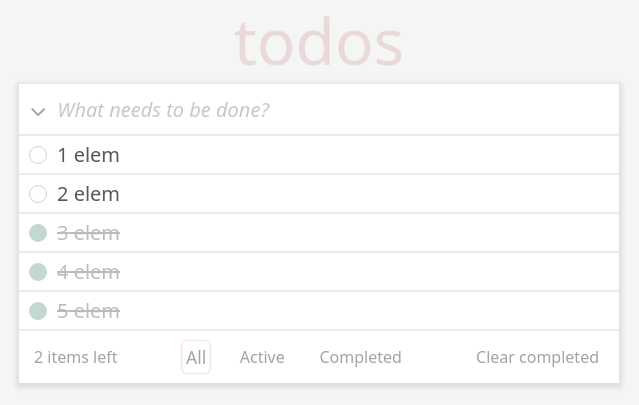
Scenario: Tests › Render only active todos
expect the number of elements with test id "todo-item" is 5: met, box [19,136,619,175]; [19,175,619,214]; [19,214,619,253]; [19,253,619,292]; [19,292,619,331]
Click the text with test id "category-active".
click(262, 357)  # box [240,346,285,368]
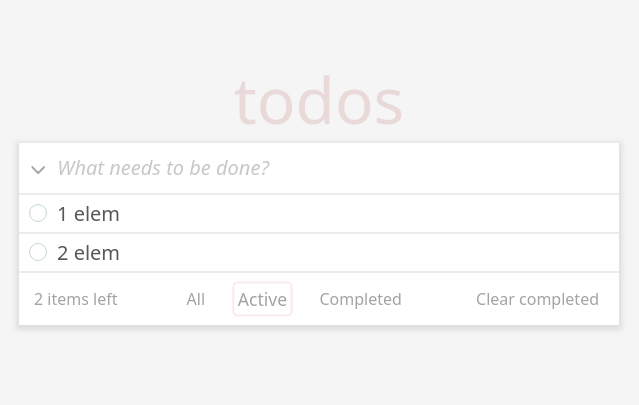
expect the number of elements with test id "todo-item" is 2: met, box [19,194,619,234]; [19,234,619,272]
